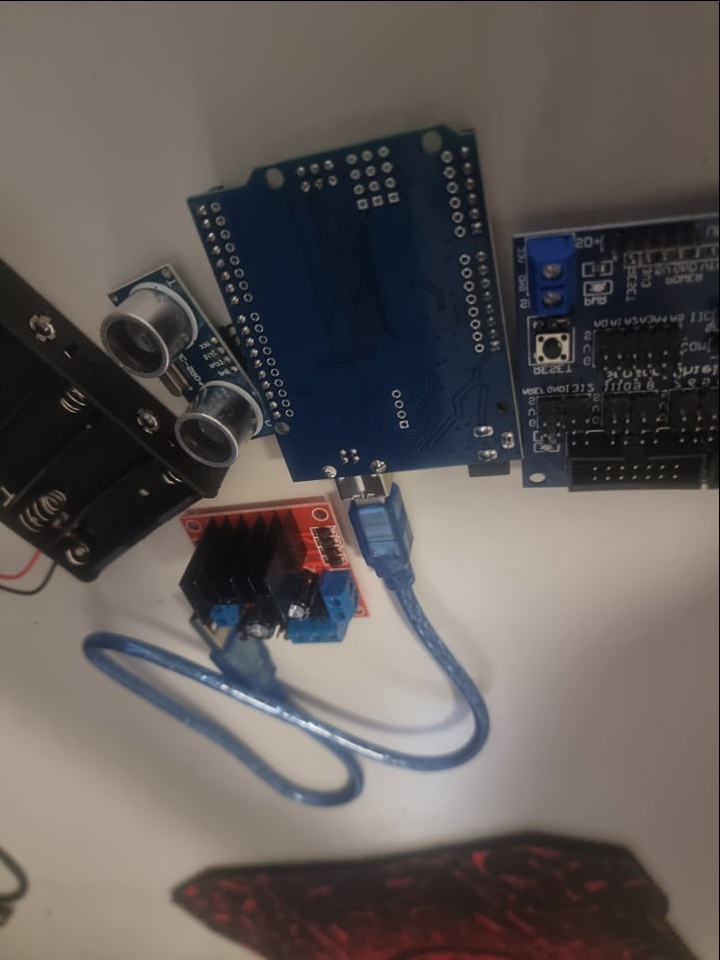5V EXPANSION: (512, 186, 720, 495)
BATTERY BOX: (3, 329, 208, 580)
MOTOR: (178, 498, 373, 654)
SENSOR: (96, 270, 278, 464)
